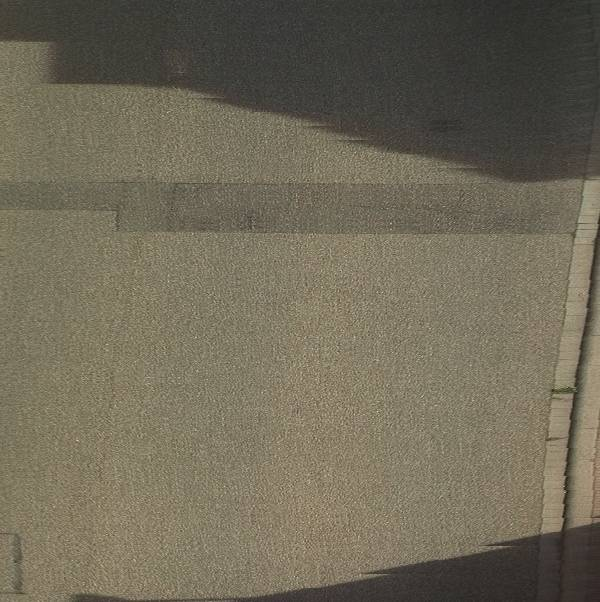road_damage: (53, 166, 564, 247)
